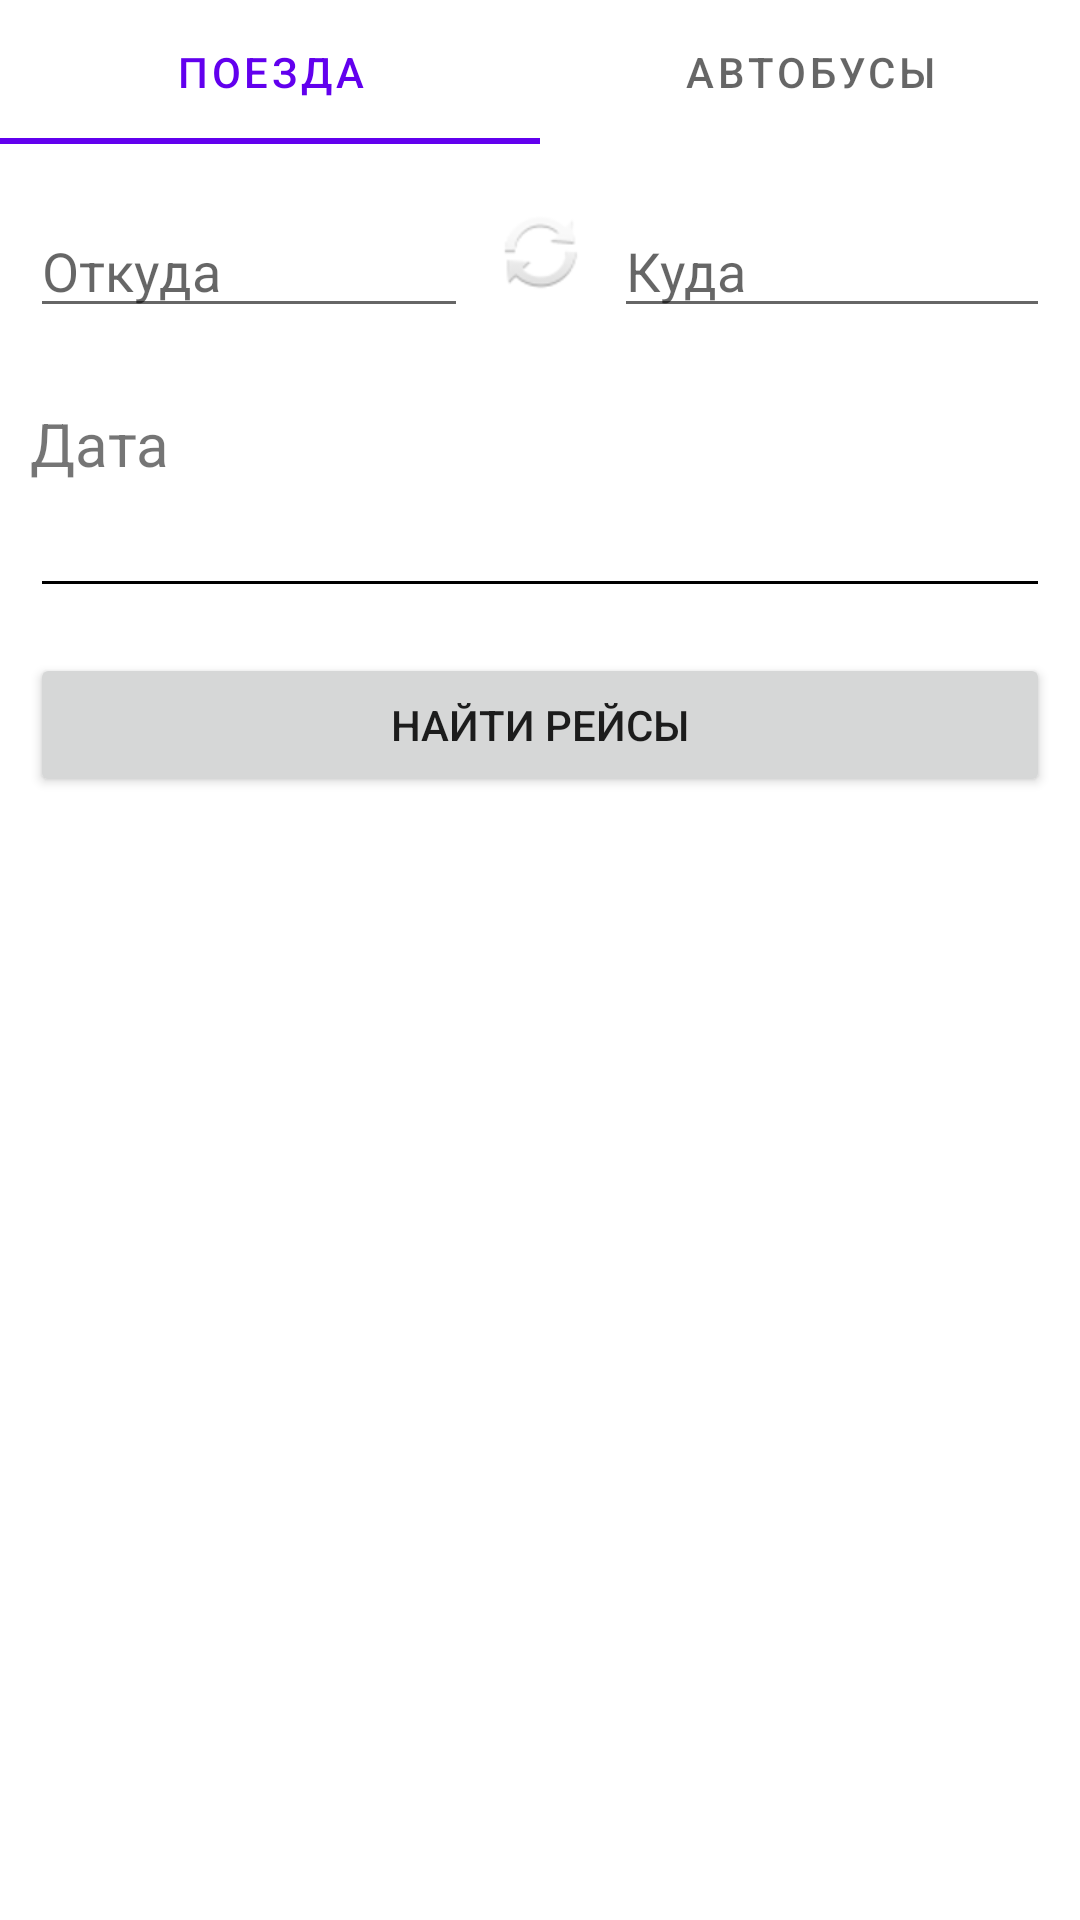

Icon click points for this 1080 × 1920 phone screenshot, format (x,y):
popup sync: (540,256)
